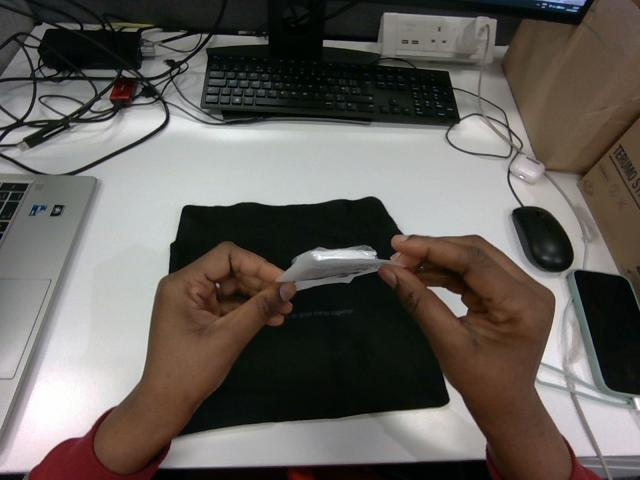gauze: (277, 245, 400, 290)
